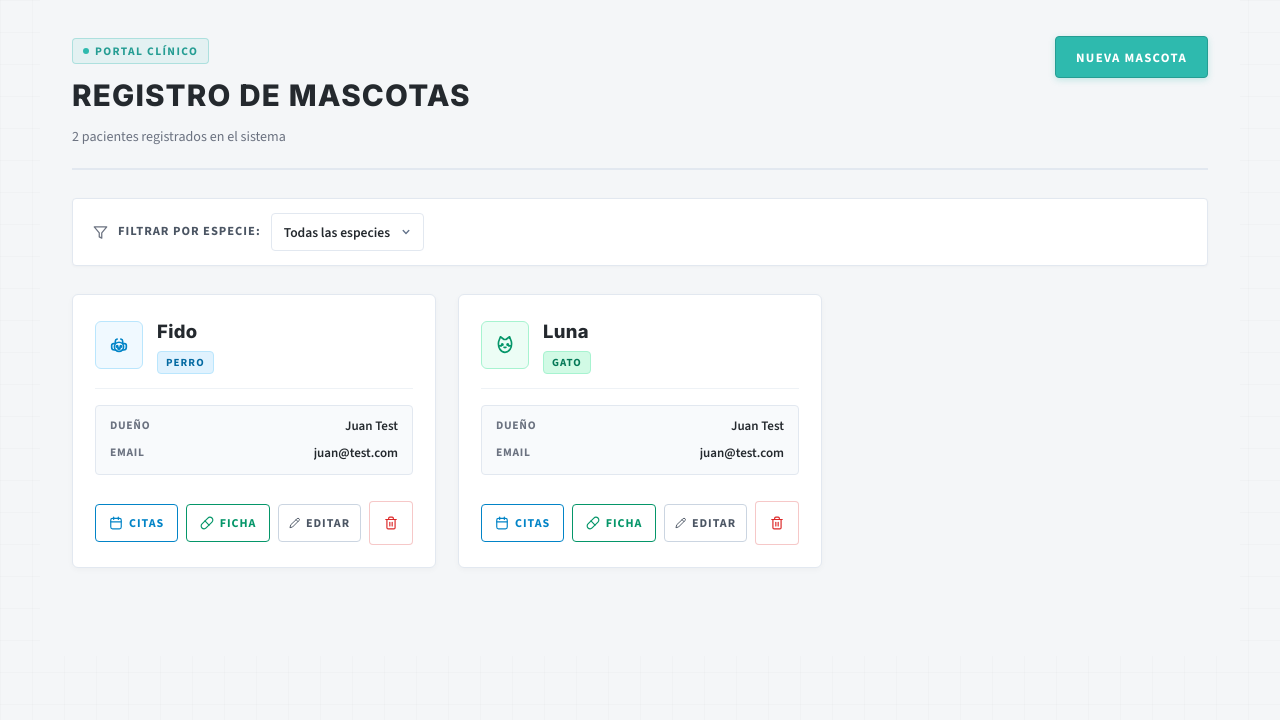
MascotaList — Crear mascota (CRUD) › abre el modal de formulario al hacer click en "Nueva mascota"
Click the button "Nueva Mascota" at (1132, 57), box [1055,36,1208,78]
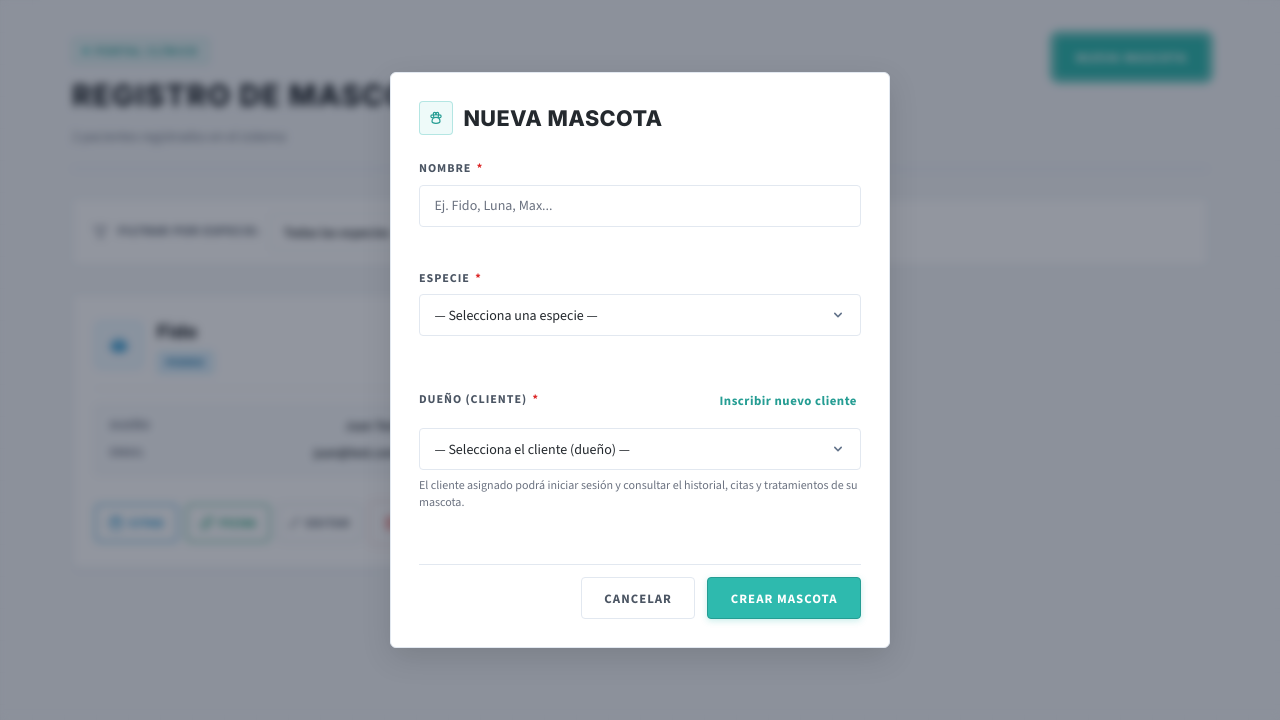
Now the dialog named "crear mascota" is shown
Now the heading "Nueva Mascota" is shown, box [463,101,663,135]
